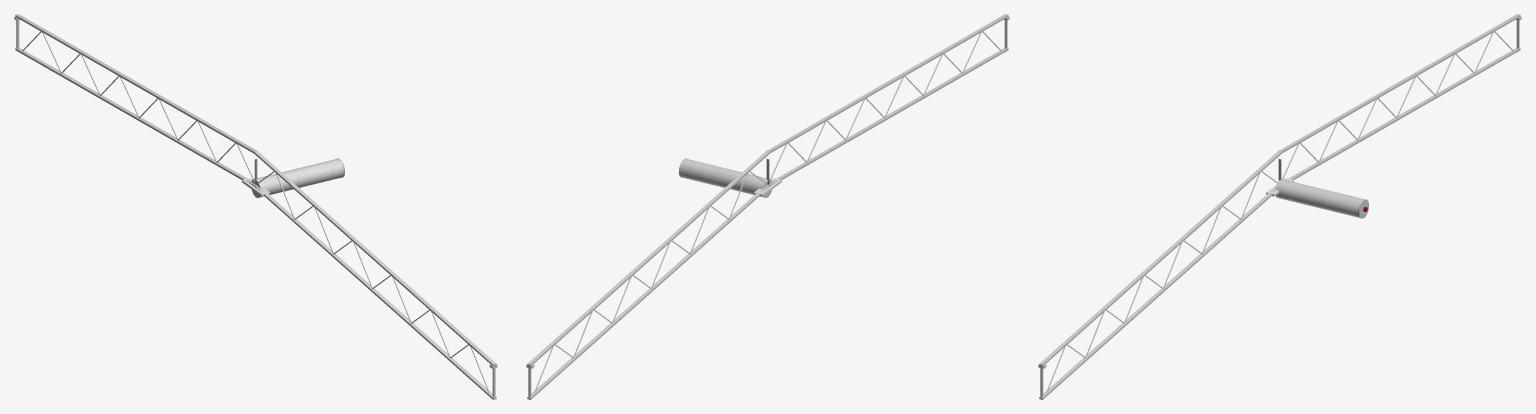
The model's file is shed_services.glb.
3 renders of one model, left to right at view 1: azimuth 30°, elevation 25°; view 2: azimuth 150°, elevation 25°; view 3: azimuth 330°, elevation 25°, orthographic.
Parts seen in each view (by area): view 1: RoofJoist, DuctRun; view 2: RoofJoist, DuctRun; view 3: RoofJoist, DuctRun.
Part boxes in pixels (x1,y1,x2,y2): RoofJoist: [14, 14, 497, 399]; DuctRun: [251, 158, 344, 197]; RoofJoist: [526, 14, 1009, 399]; DuctRun: [679, 158, 772, 197]; RoofJoist: [1038, 14, 1521, 399]; DuctRun: [1275, 179, 1368, 218].
Size of the model in its own units: 3.23 by 2.49 by 29.51.
Materials: 7 (1 with a texture image).
